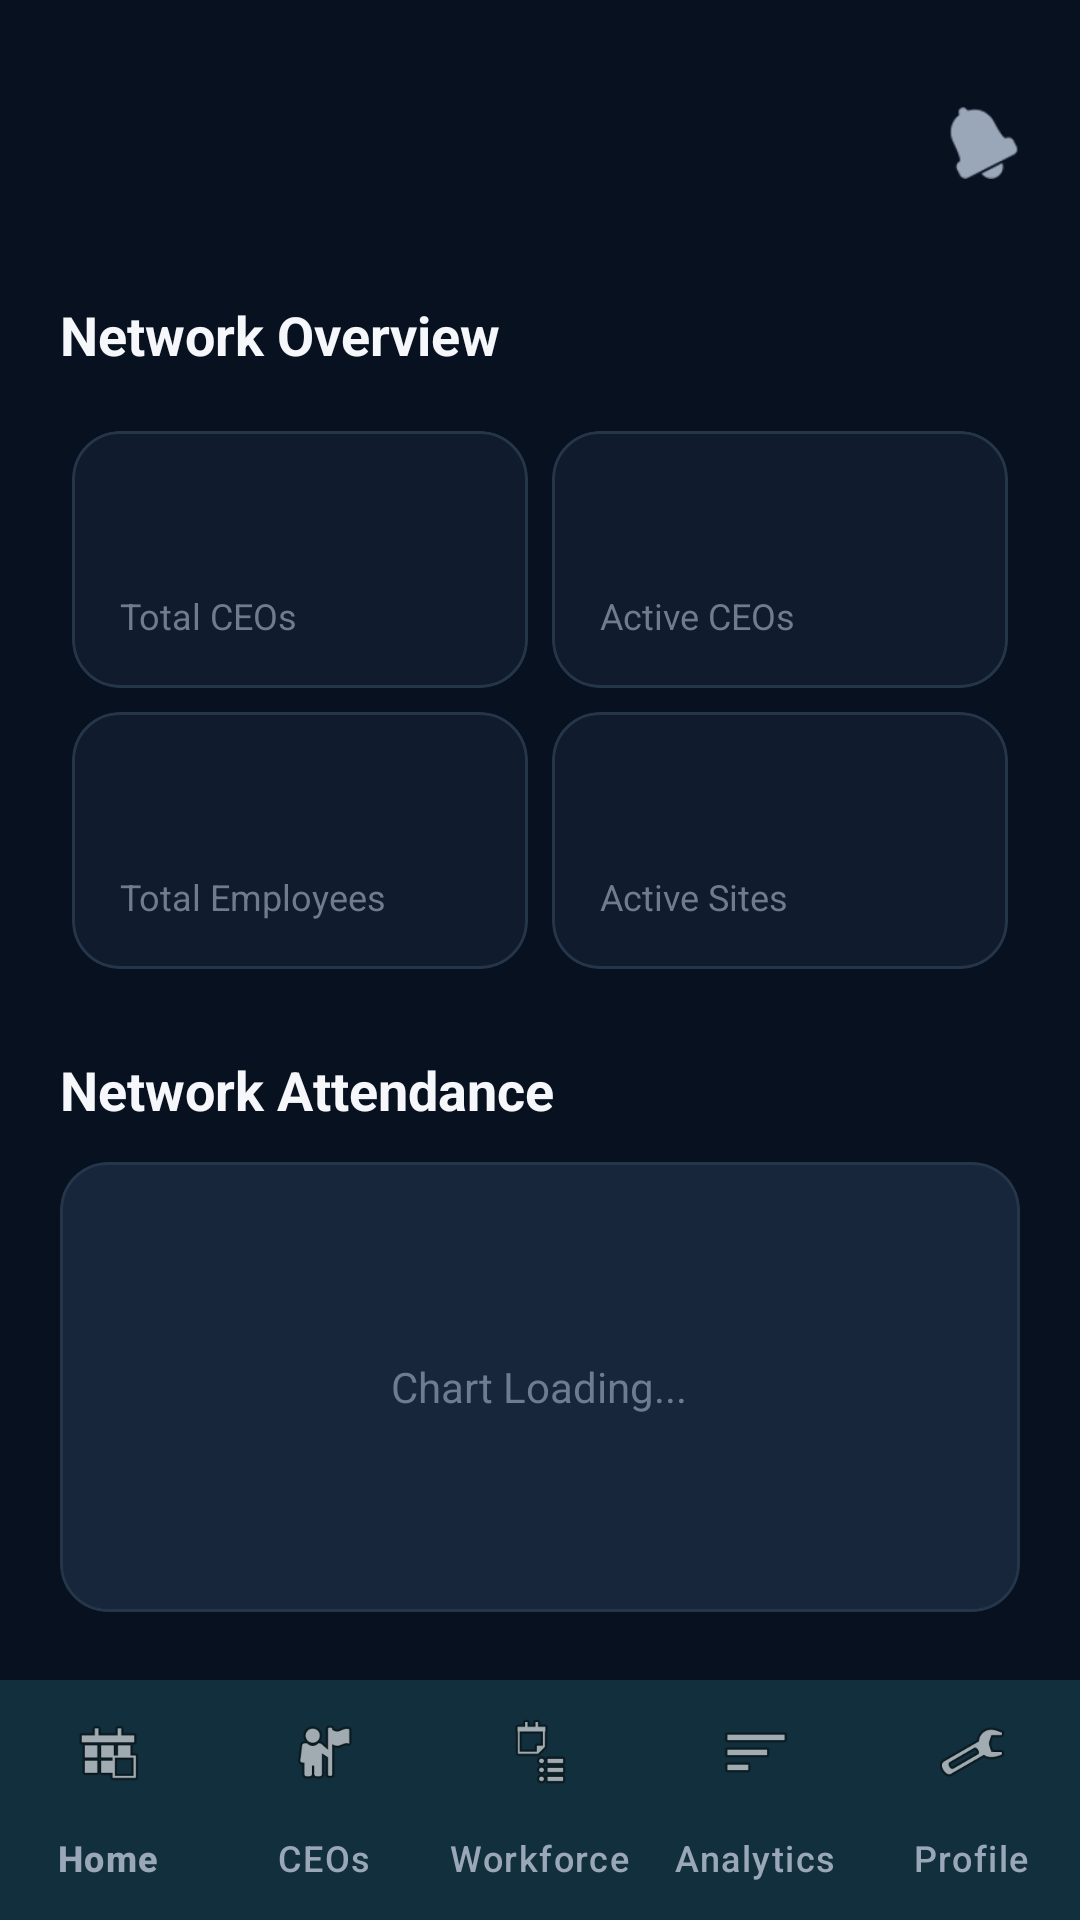

Point at icon controls on the screen. Image size 1080x1920, points as (x=x, y=y).
popup reminder: (x=984, y=143)
